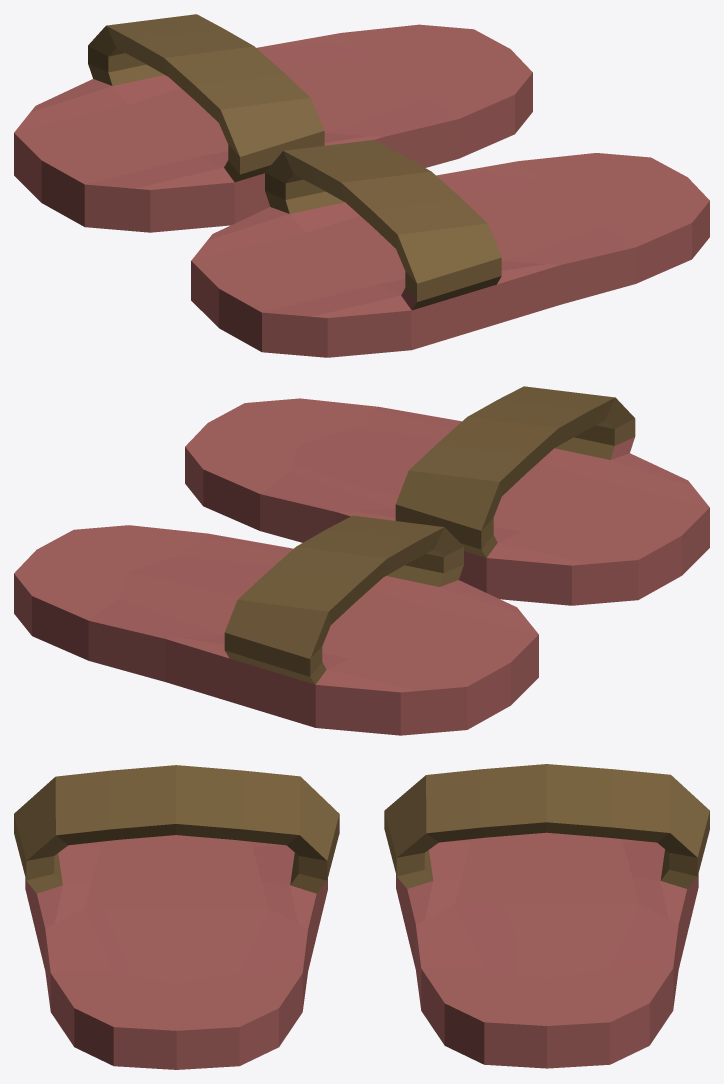
Rendered from slipper_4_partyassets.fbx.
3 renders of one model, top to bottom at view 1: azimuth 30°, elevation 25°; view 2: azimuth 150°, elevation 25°; view 3: azimuth 270°, elevation 25°, orthographic. The views are drawn at different scales.
Visible parts, largest first — view 1: slipper_4_partyassets, Cube.028; view 2: slipper_4_partyassets, Cube.028; view 3: slipper_4_partyassets, Cube.028.
Boxes of the visible parts, left/top/right/bottom form: slipper_4_partyassets: left=14, top=24, right=709, bottom=357; Cube.028: left=88, top=14, right=501, bottom=310; slipper_4_partyassets: left=14, top=398, right=709, bottom=735; Cube.028: left=224, top=386, right=635, bottom=684; slipper_4_partyassets: left=25, top=832, right=698, bottom=1069; Cube.028: left=14, top=764, right=709, bottom=893.
Bounding box in the file's own units: 23.34 × 5.49 × 27.81.
